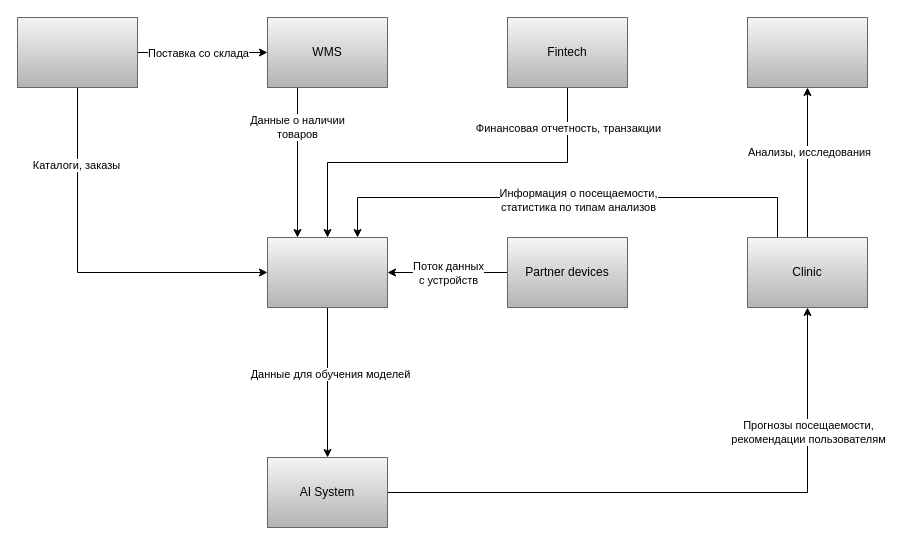
Some shapes in this 902 by 545 pixel diagram are drawn without their labels. The shapes that lost their labels are listed below. From the top down, each one's centre as x and y in pixels, then its label:
point (77, 52): Pharmaceutic
point (807, 52): Laboratory
point (327, 272): Data Lakehouse Platform
